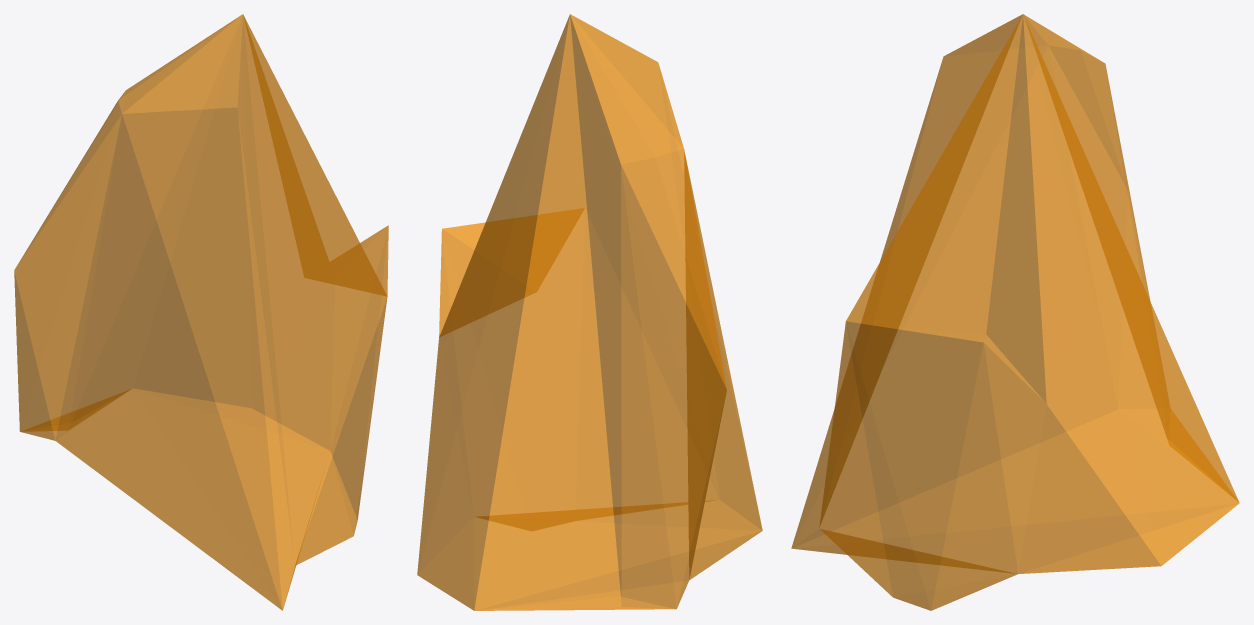
File: fireInner.dae
The picture shows the model from 3 angles, left to right: view 1: azimuth 30°, elevation 25°; view 2: azimuth 150°, elevation 25°; view 3: azimuth 270°, elevation 25°; orthographic projection. The views are drawn at different scales.
Parts seen in each view (by area): view 1: midFlame; view 2: midFlame; view 3: midFlame.
Part boxes in pixels (box(x1,y1,x2,y2)): midFlame: box(14, 14, 388, 610); midFlame: box(417, 14, 762, 610); midFlame: box(791, 14, 1239, 610).
Size of the model in its own units: 0.9831 by 1.09 by 1.53.
